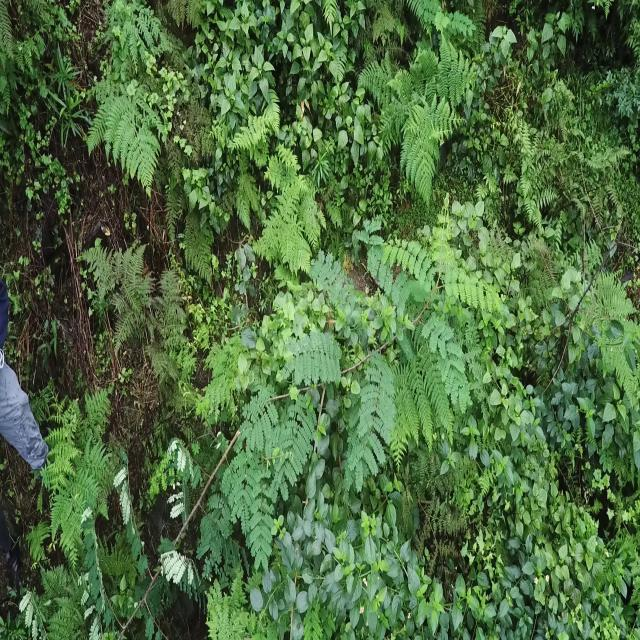Mysore-Thorn-Weed: (72, 184, 519, 640)
